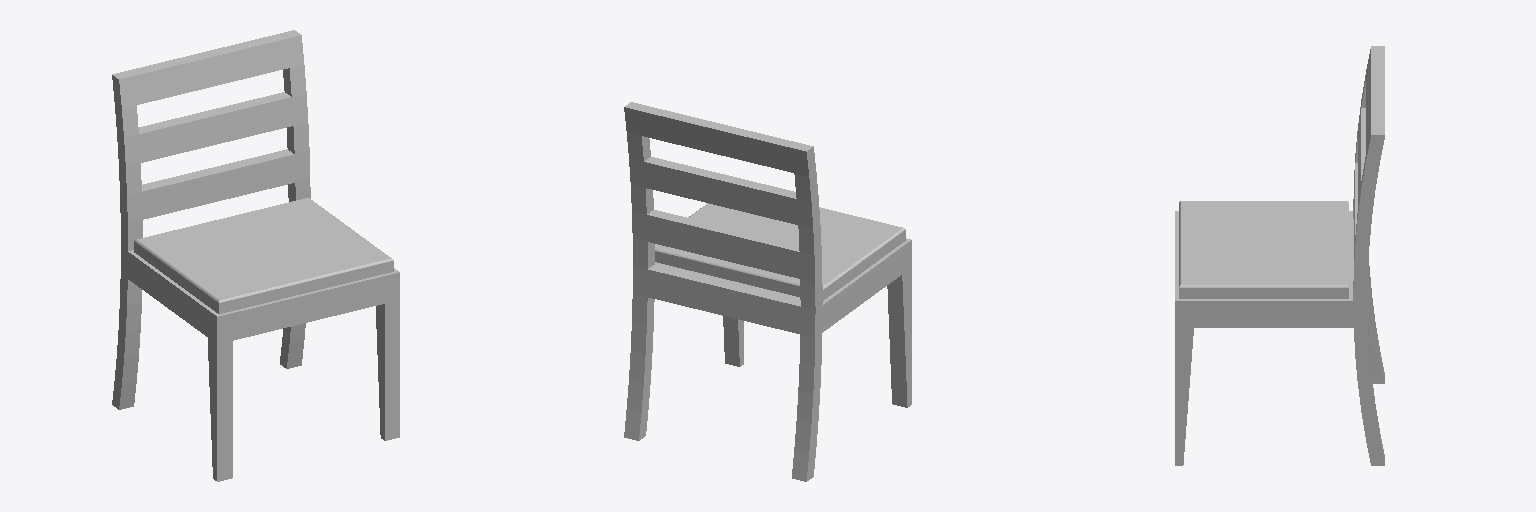
The model's file is ZPG_zidle_textura.obj.
The picture shows the model from 3 angles: view 1: azimuth 30°, elevation 25°; view 2: azimuth 150°, elevation 25°; view 3: azimuth 270°, elevation 25°; orthographic projection.
Parts seen in each view (by area): view 1: ZidleB2.001_Layer0_001Mesh.001; view 2: ZidleB2.001_Layer0_001Mesh.001; view 3: ZidleB2.001_Layer0_001Mesh.001.
Part boxes in pixels (x1,y1,x2,y2): ZidleB2.001_Layer0_001Mesh.001: (112, 30, 399, 481); ZidleB2.001_Layer0_001Mesh.001: (624, 102, 911, 481); ZidleB2.001_Layer0_001Mesh.001: (1175, 46, 1384, 465).
Bounding box in the file's own units: 3.57 × 6.18 × 3.57.